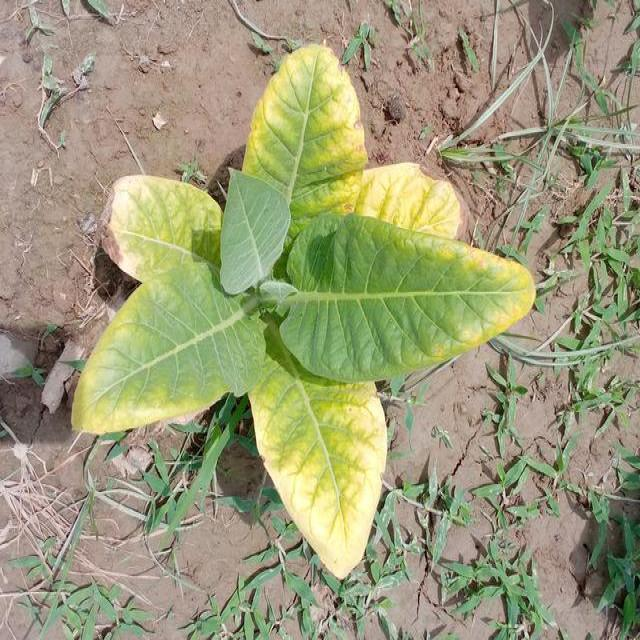crop: (66, 47, 536, 580)
